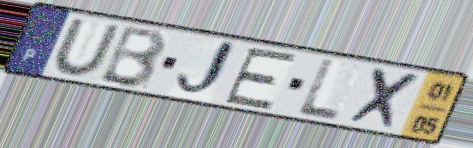B: (95, 24, 170, 90)
E: (220, 46, 301, 112)
J: (170, 37, 240, 100)
L: (294, 57, 342, 124)
U: (51, 17, 124, 80)
X: (344, 65, 427, 134)
